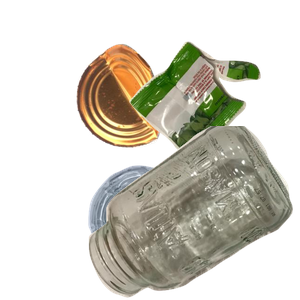glass: (86, 126, 300, 300)
metal: (74, 41, 229, 181)
plastic: (86, 163, 282, 300)
trash: (127, 39, 300, 193)
